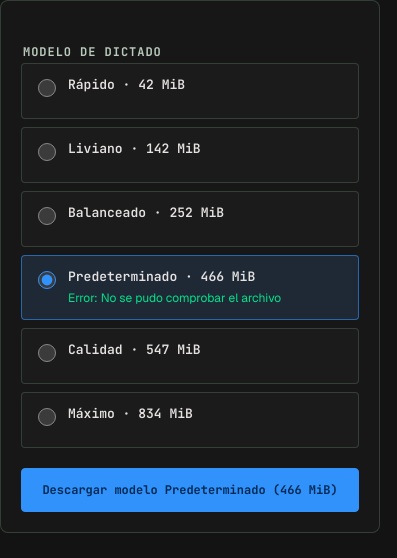
ModelSelector › shows checksum and status errors only for the models it checks
Expected: the text "Error: No se pudo comprobar el archivo" is shown, [68,290,281,307]
Expected: the text "Checksum inválido" is not shown
Click the radio button labelled "Liviano · 142 MiB" at (47, 152), box [38,143,56,161]
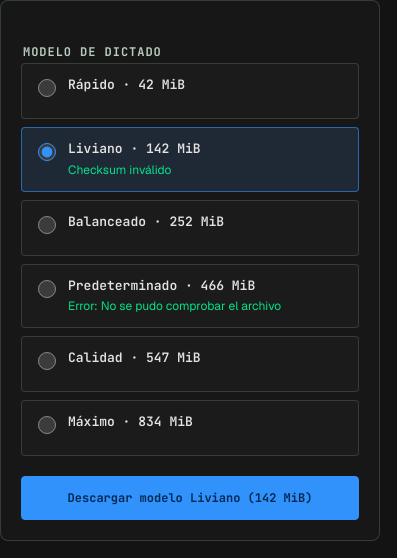
Now the text "Checksum inválido" is shown, box [68,162,171,178]
